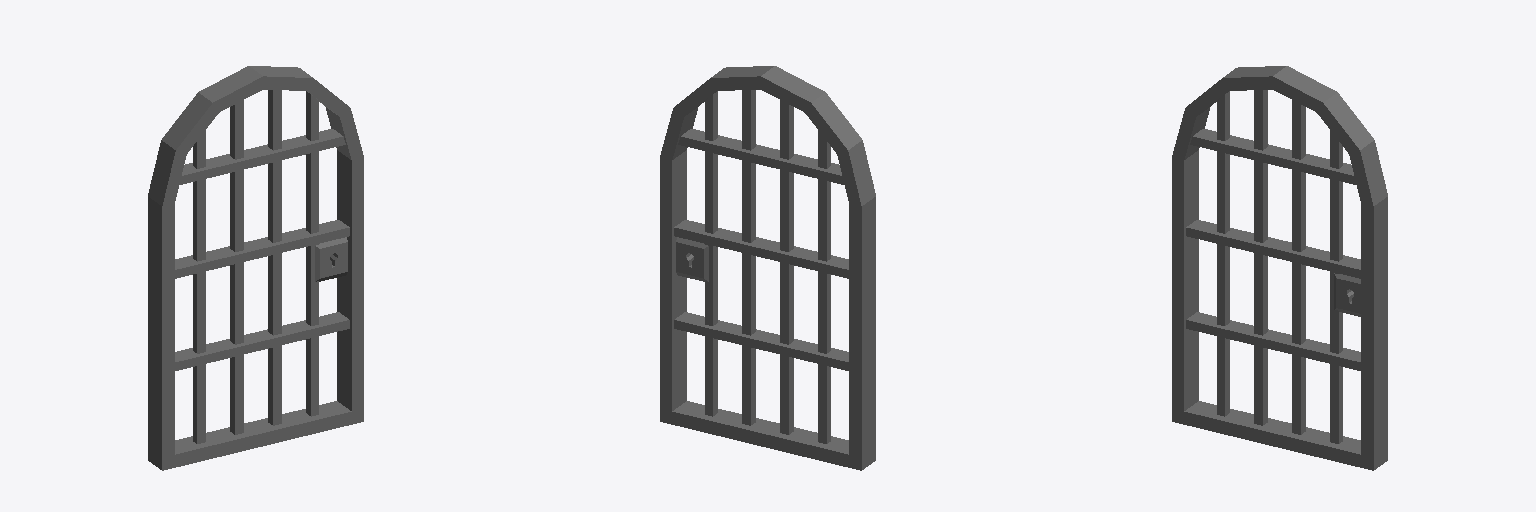
The model's file is prop_wall_big_door_iron.obj.
The picture shows the model from 3 angles: view 1: azimuth 30°, elevation 25°; view 2: azimuth 150°, elevation 25°; view 3: azimuth 330°, elevation 25°; orthographic projection.
Parts seen in each view (by area): view 1: prop_wall_big_door_iron; view 2: prop_wall_big_door_iron; view 3: prop_wall_big_door_iron.
Boxes of the visible parts, x1,y1,x2,y2 form: prop_wall_big_door_iron: [148, 66, 363, 470]; prop_wall_big_door_iron: [660, 66, 875, 470]; prop_wall_big_door_iron: [1172, 66, 1387, 470].
Bounding box in the file's own units: 0.8 × 1.4 × 0.1.